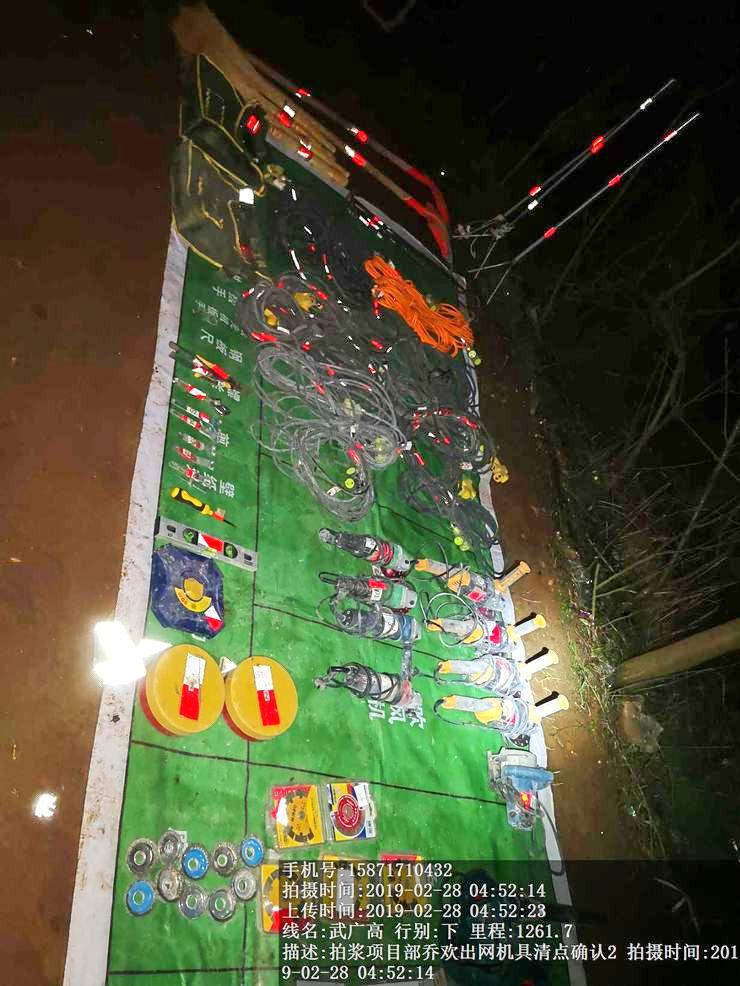DMJ: (327, 652, 419, 714), (324, 598, 420, 654), (324, 524, 413, 576)
DX: (255, 403, 385, 521), (375, 264, 487, 355)
DZ: (430, 688, 587, 739), (429, 643, 592, 686), (426, 606, 564, 651), (419, 548, 532, 600)
GJB: (163, 135, 268, 280)
JC: (137, 635, 226, 752), (225, 651, 307, 748), (150, 548, 226, 635)
TQ: (364, 123, 459, 254)
